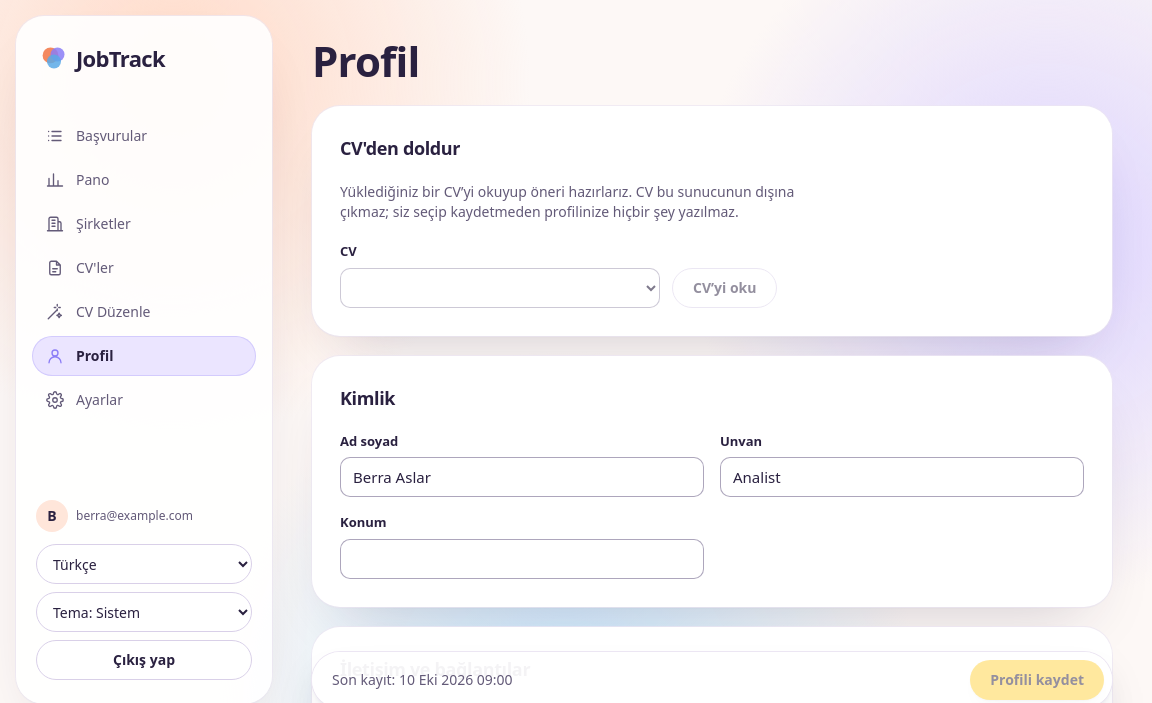
Scenario: profil (FR-20) › kayıtlı profili gösterir; değişikliği kaydeder
The width and height of the screenshot is (1152, 703).
Expected: the field labelled "Ad soyad" holds "Berra Aslar", left=340, top=457, right=704, bottom=497
Expected: the button "Profili kaydet" is disabled, left=970, top=660, right=1104, bottom=700
Type "İstanbul" into the field labelled "Konum" at (522, 558), box left=340, top=538, right=704, bottom=578
(page scrolled)
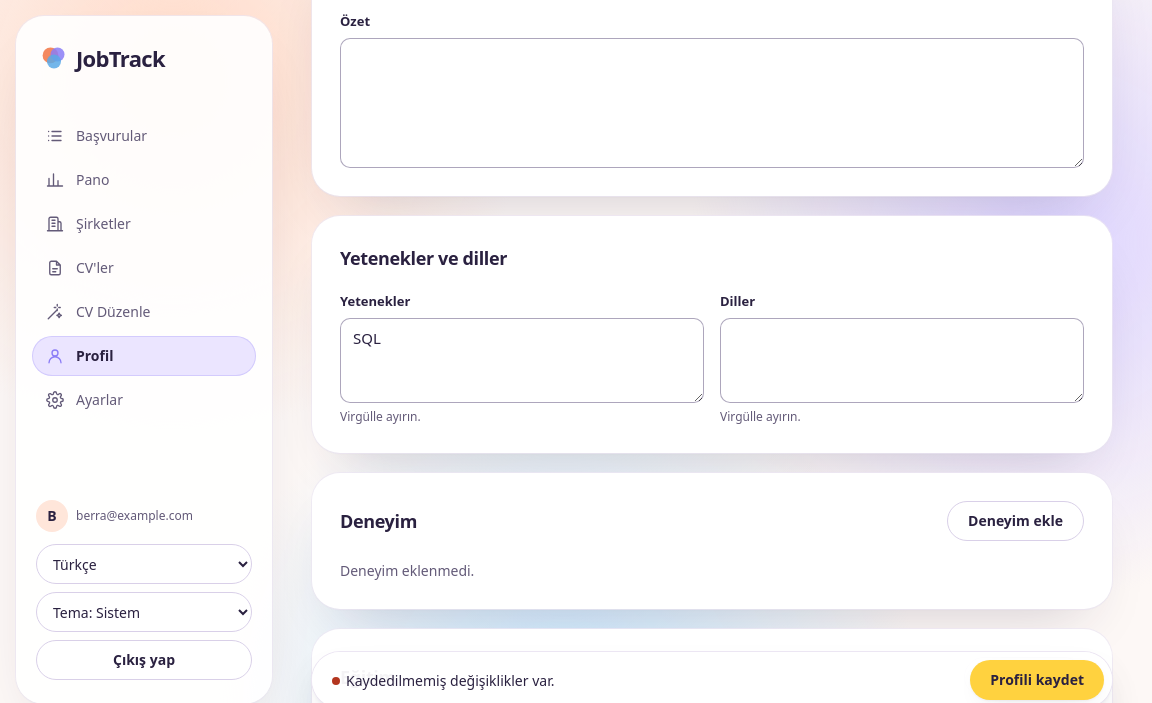
Replace the text in the text box labelled "Yetenekler" with "SQL, Python ,  , dbt" at (522, 360), box left=340, top=318, right=704, bottom=403
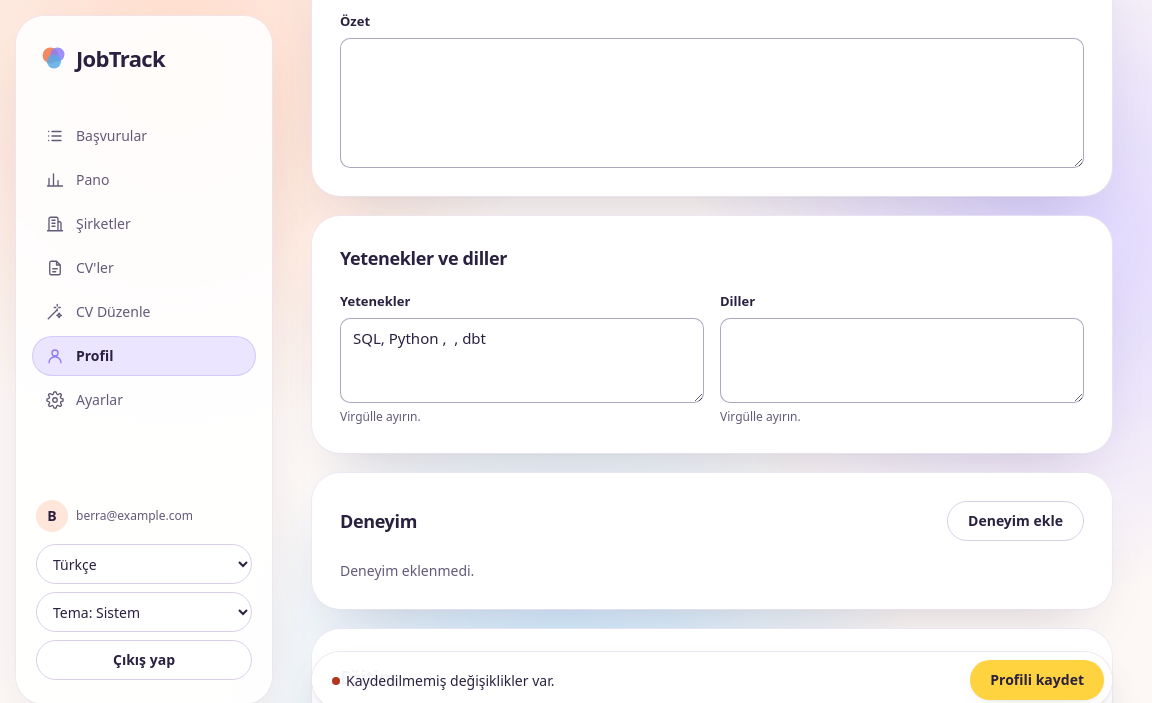
Result: the text "Kaydedilmemiş değişiklikler var." is shown at left=332, top=670, right=554, bottom=690
Click the button "Profili kaydet" at (1037, 680), box left=970, top=660, right=1104, bottom=700
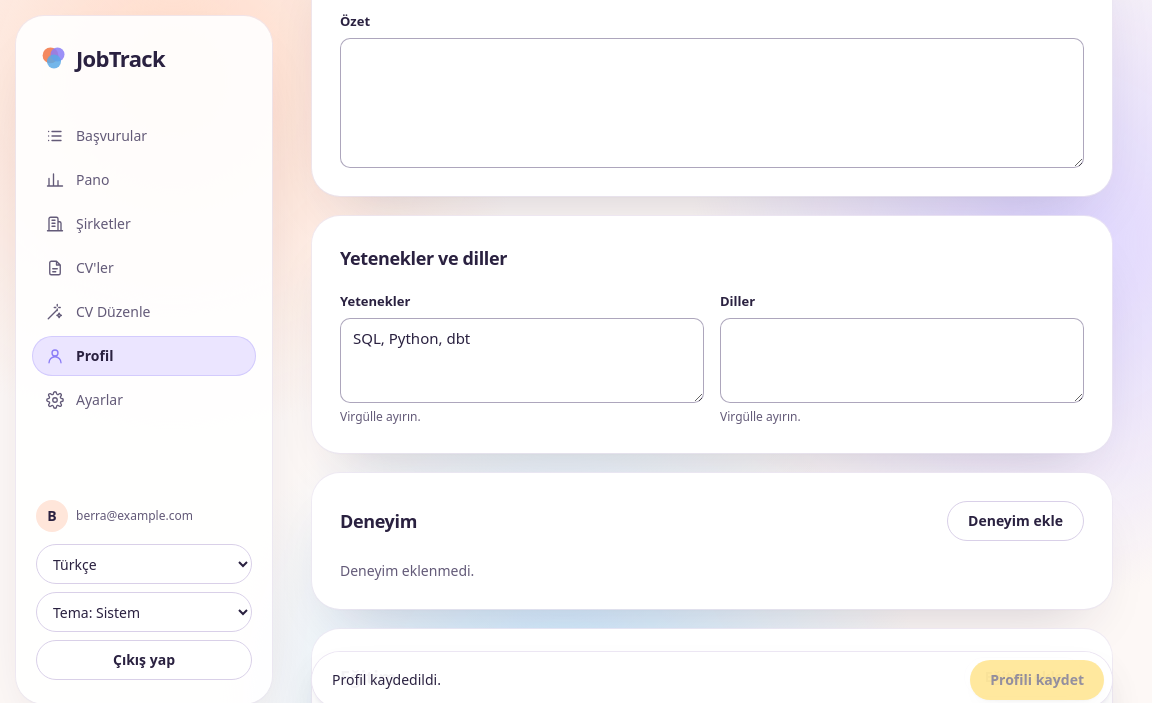
Result: the text "Profil kaydedildi." is shown at left=332, top=670, right=441, bottom=689
